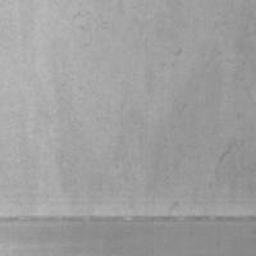Welding line: (0, 214, 256, 225)
